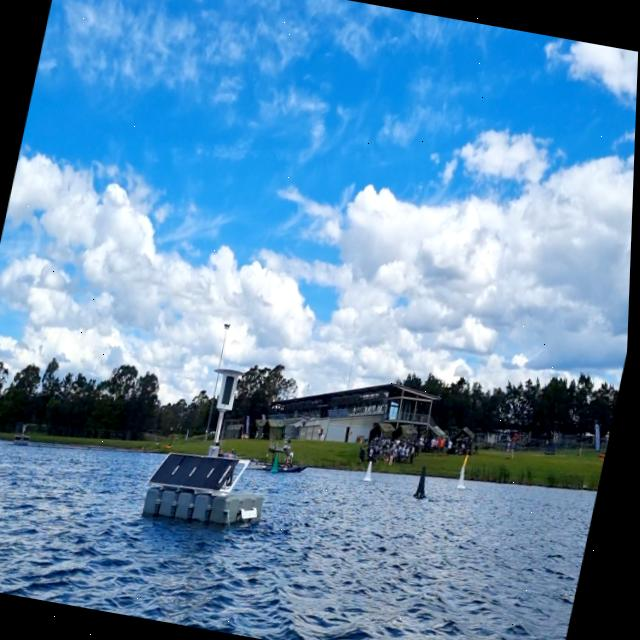led: (221, 372, 241, 408)
